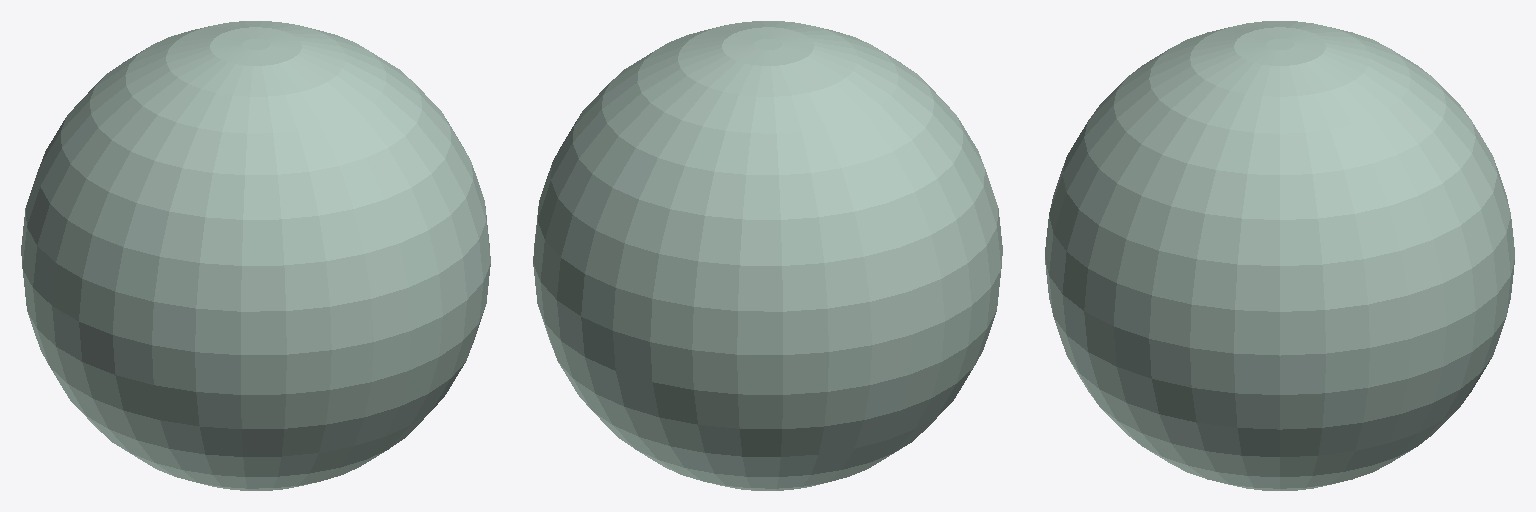
Rendered from Planet.obj.
3 renders of one model, left to right at view 1: azimuth 30°, elevation 25°; view 2: azimuth 150°, elevation 25°; view 3: azimuth 270°, elevation 25°, orthographic.
Visible parts, largest first — view 1: Sphere.001; view 2: Sphere.001; view 3: Sphere.001.
Boxes of the visible parts, x1,y1,x2,y2 form: Sphere.001: [21, 21, 490, 490]; Sphere.001: [533, 21, 1002, 490]; Sphere.001: [1045, 21, 1514, 490].
Bounding box in the file's own units: 2 × 1.98 × 2.